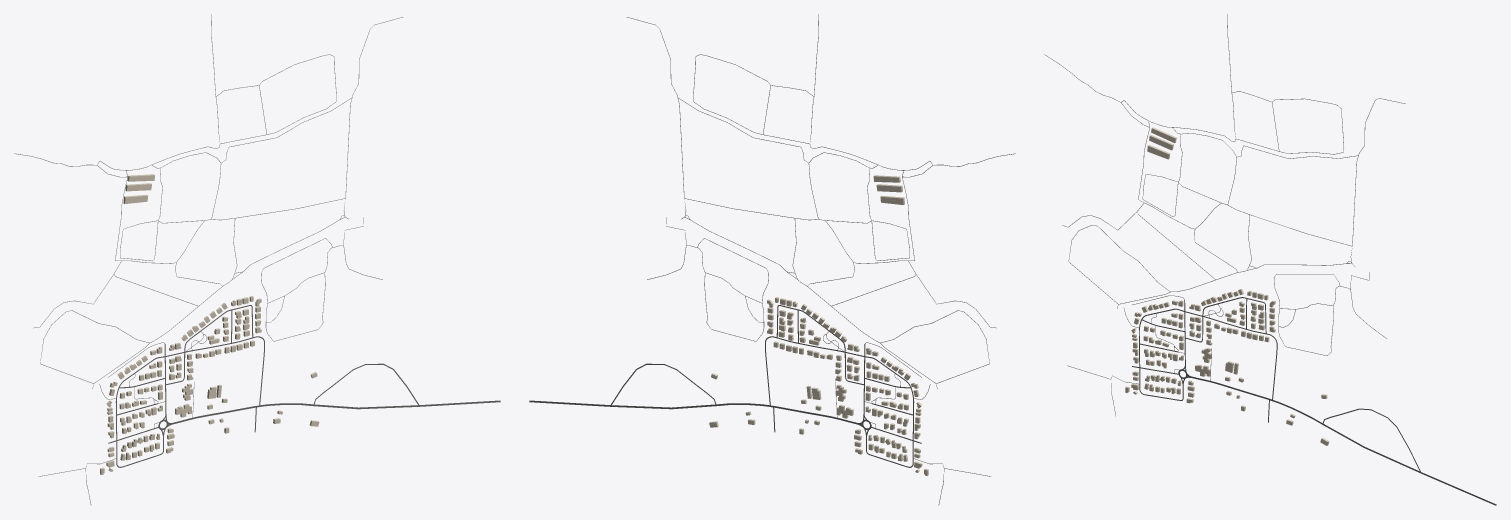
The model's file is historic-palestine-07_28_3489_3221.glb.
The picture shows the model from 3 angles, left to right: view 1: azimuth 30°, elevation 25°; view 2: azimuth 150°, elevation 25°; view 3: azimuth 330°, elevation 25°; orthographic projection. The views are drawn at different scales.
Parts seen in each view (by area): view 1: Road הדרים; view 2: Road הדרים; view 3: Road הדרים.
Part boxes in pixels (x1,y1,x2,y2): Road הדרים: [259, 400, 500, 409]; Road הדרים: [529, 400, 770, 409]; Road הדרים: [1272, 400, 1496, 505].
Bounding box in the file's own units: 1507 × 1369 × 8.7.
